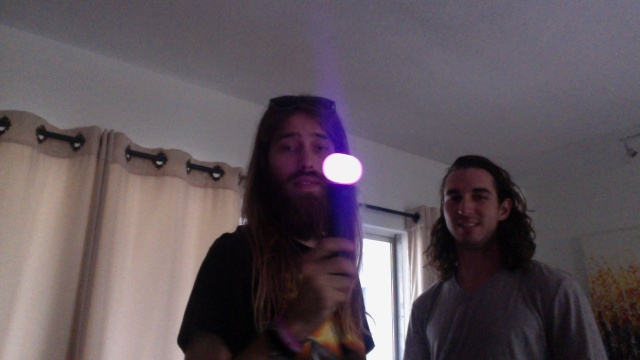wand: (324, 153, 362, 184)
